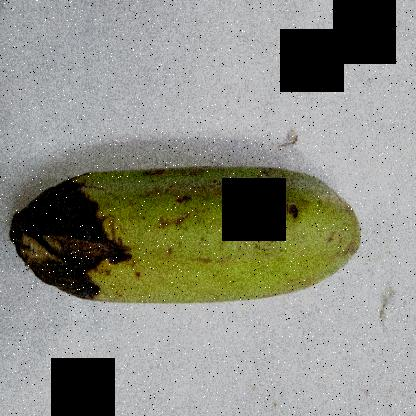rotten: (2, 125, 138, 330)
